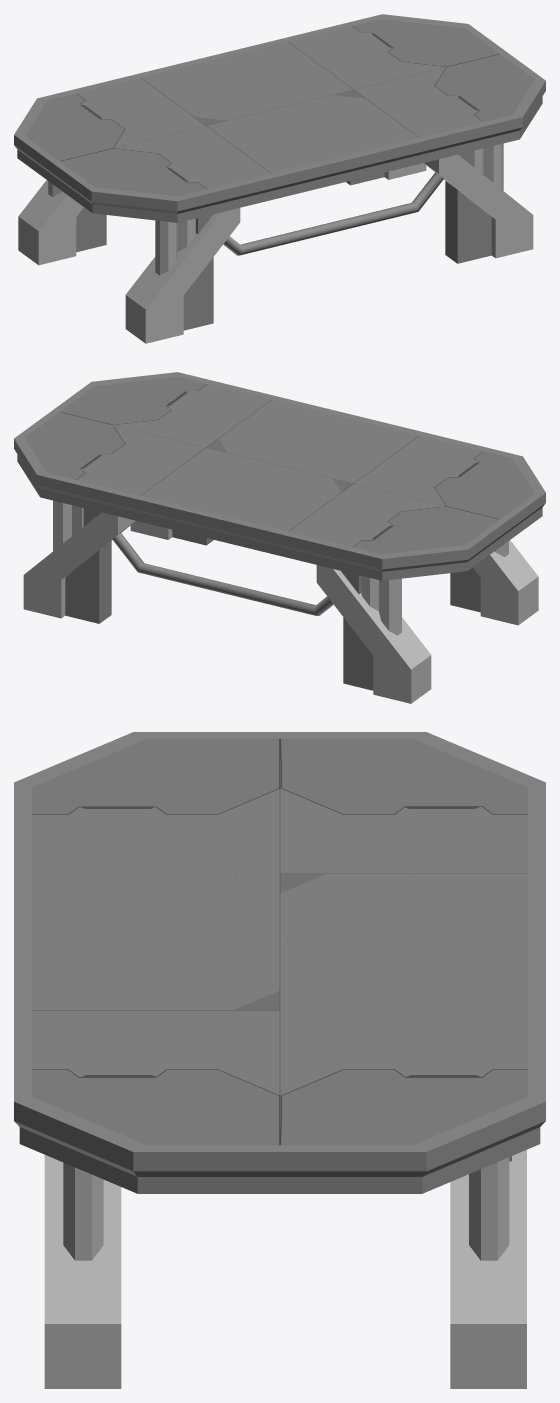
Rendered from SM_Platform_1.fbx.
3 renders of one model, top to bottom at view 1: azimuth 30°, elevation 25°; view 2: azimuth 150°, elevation 25°; view 3: azimuth 270°, elevation 25°, orthographic. The views are drawn at different scales.
Visible parts, largest first — view 1: SM_Platform_1; view 2: SM_Platform_1; view 3: SM_Platform_1.
Boxes of the visible parts, x1,y1,x2,y2 form: SM_Platform_1: [14, 14, 545, 343]; SM_Platform_1: [14, 372, 545, 703]; SM_Platform_1: [14, 732, 545, 1388].
Bounding box in the file's own units: 505 × 151 × 270.
